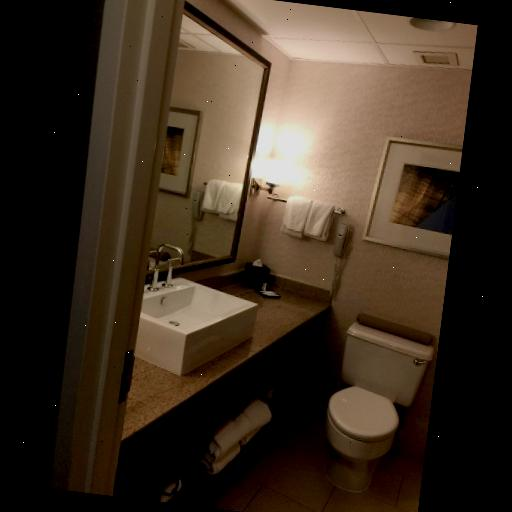clean mirror: (149, 5, 272, 276)
clean_sink: (119, 254, 338, 472)
clean_toilet: (308, 314, 436, 498)
folded_towel: (207, 396, 274, 475), (276, 194, 336, 243)
